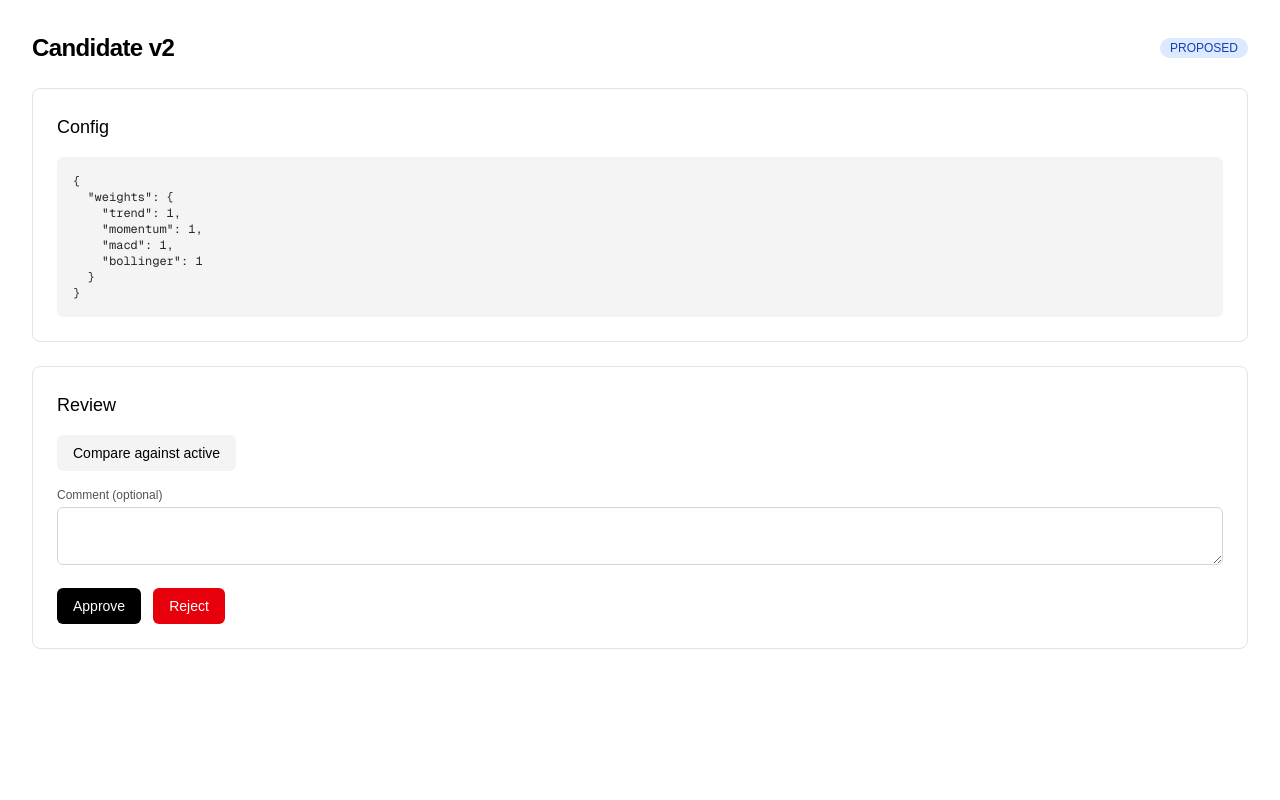
Scenario: StrategyVersionDetailPage — propose→compare→approve/reject state machine › requires a second click through ConfirmButton before rejecting, then flips status
Check: the heading "Candidate v2" is shown, box top-left (32, 32), bottom-right (174, 64)
Click the button "Reject" at (189, 606), box top-left (153, 588), bottom-right (225, 624)
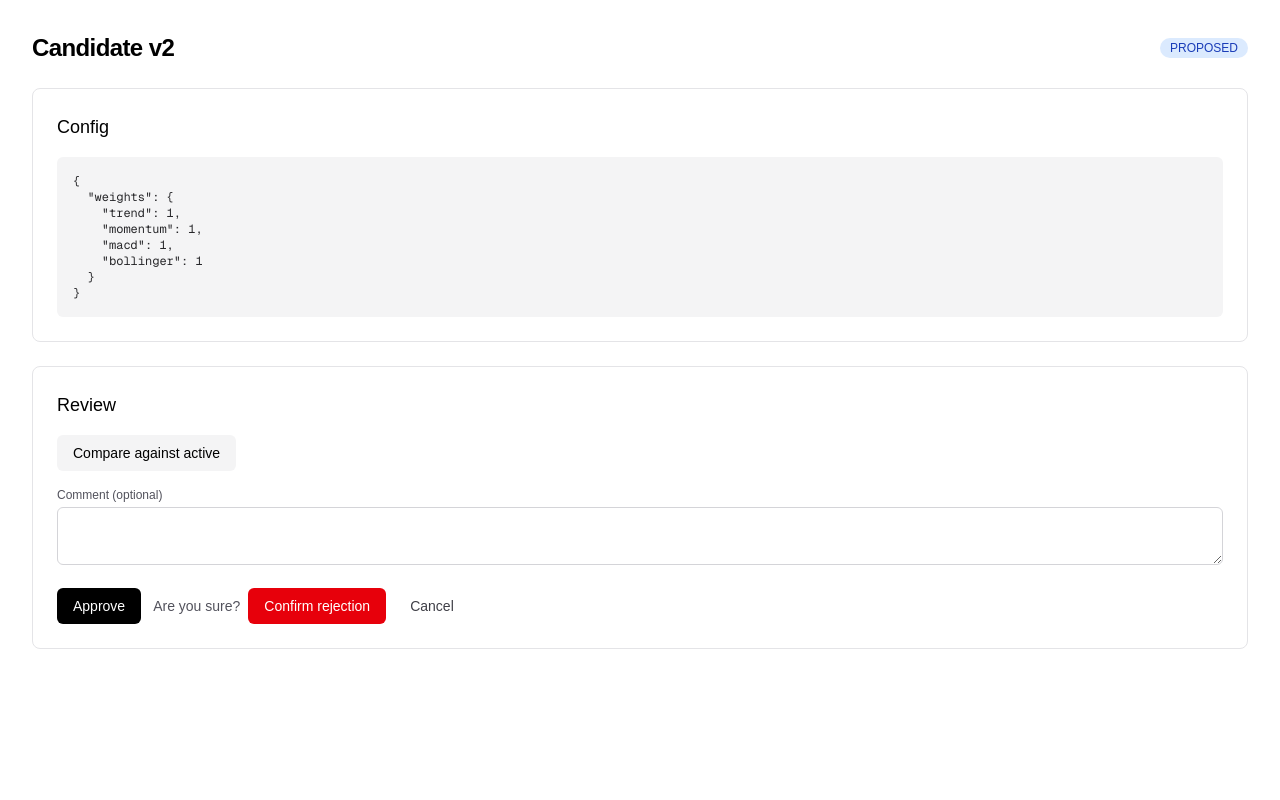
Check: the text "PROPOSED" is shown, box top-left (1160, 38), bottom-right (1248, 58)
Check: the text "Are you sure?" is shown, box top-left (153, 596), bottom-right (240, 616)
Click the button "Confirm rejection" at (317, 606), box top-left (248, 588), bottom-right (386, 624)
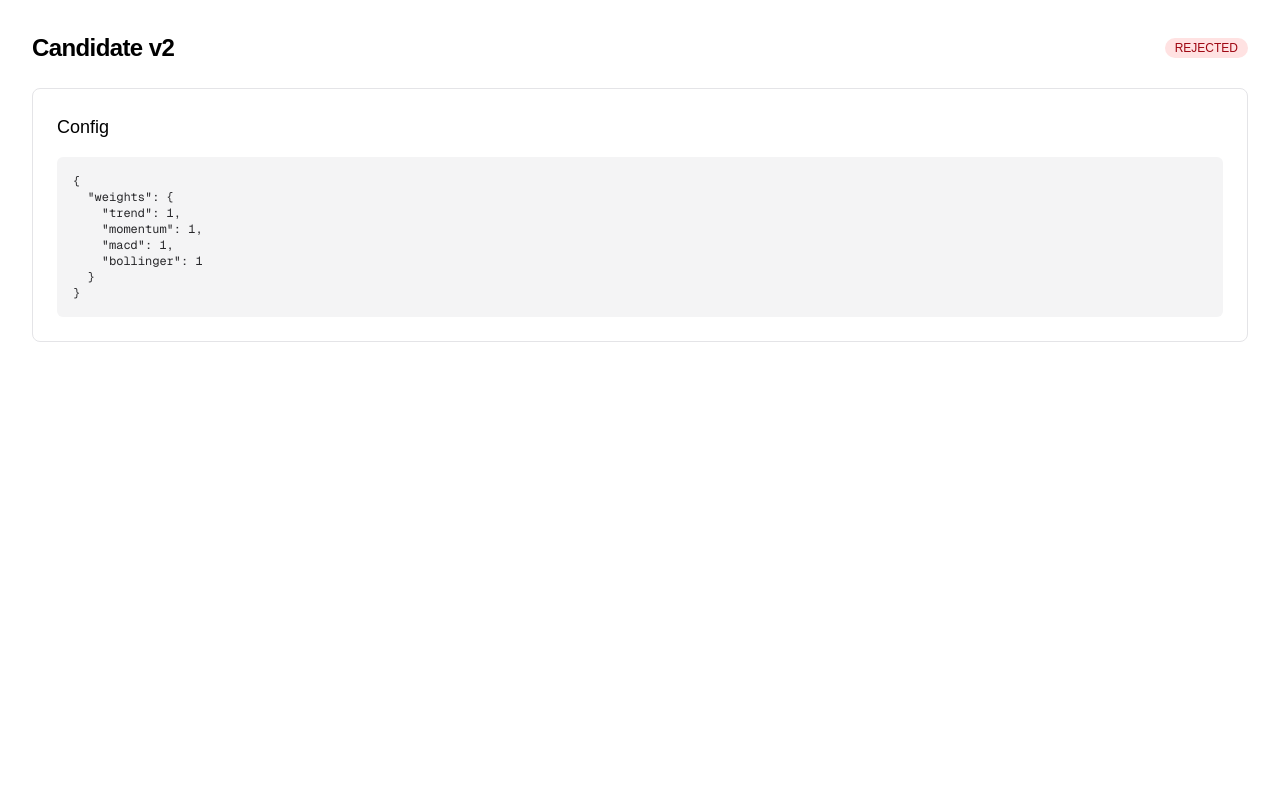
Check: the text "REJECTED" is shown, box top-left (1165, 38), bottom-right (1248, 58)
Check: the button "Approve" is gone
